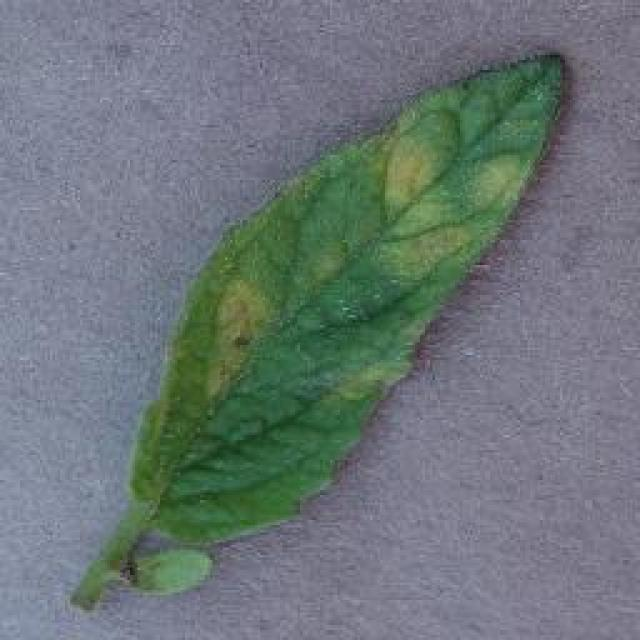Tomato mold leaf: (139, 47, 567, 540)
